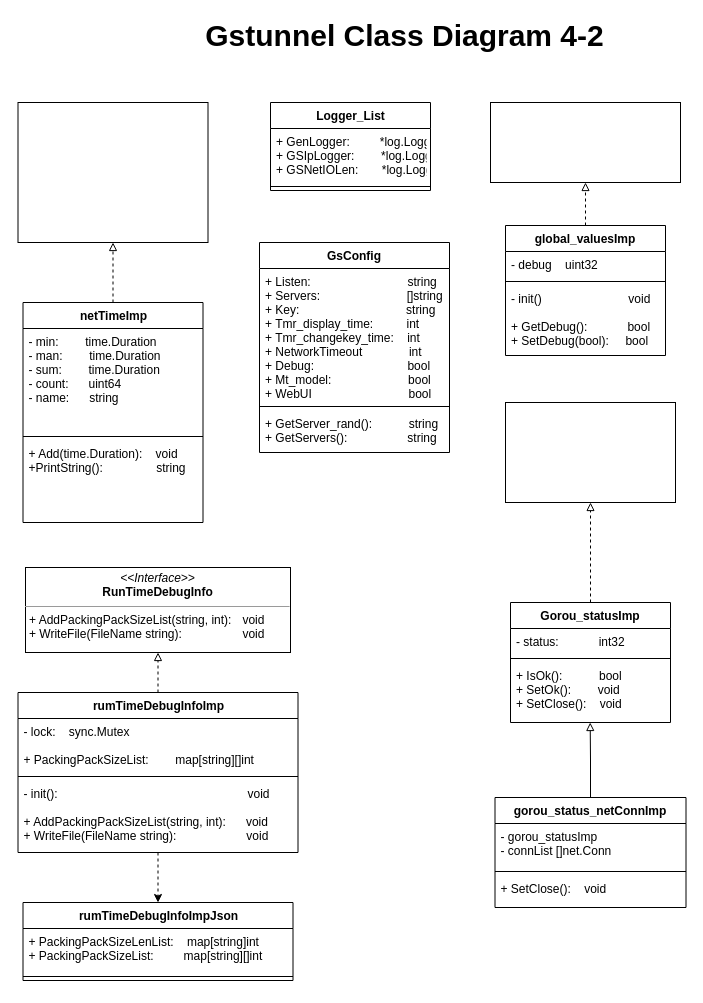
Image size: 703x1003. Some labels were removed from this diagram. Each missing label, with the centre of its shape:
<<Interface>> Global_values + GetDebug(): bool + SetDebug(bool): bool: point (585, 142)
<<Interface>> Gorou_status + IsOk(): bool + SetOk(): void + SetClose(): void: point (590, 452)
<<Interface>> Interface + Add(time.Duration): void +PrintString(): string: point (112, 172)
